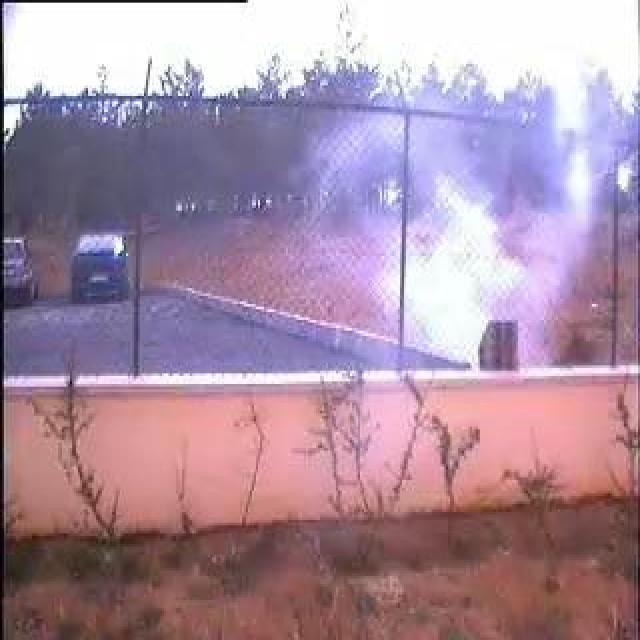Smoke: (335, 80, 607, 363)
